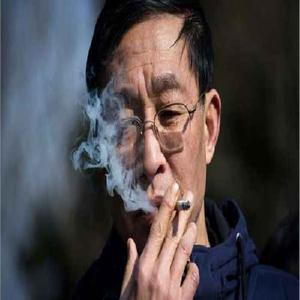cigarette: (154, 199, 194, 212)
